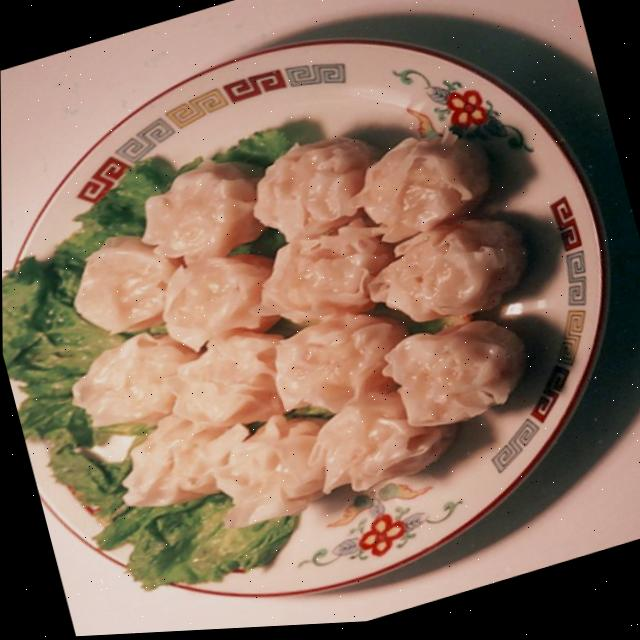带馅早点: (34, 99, 543, 563)
